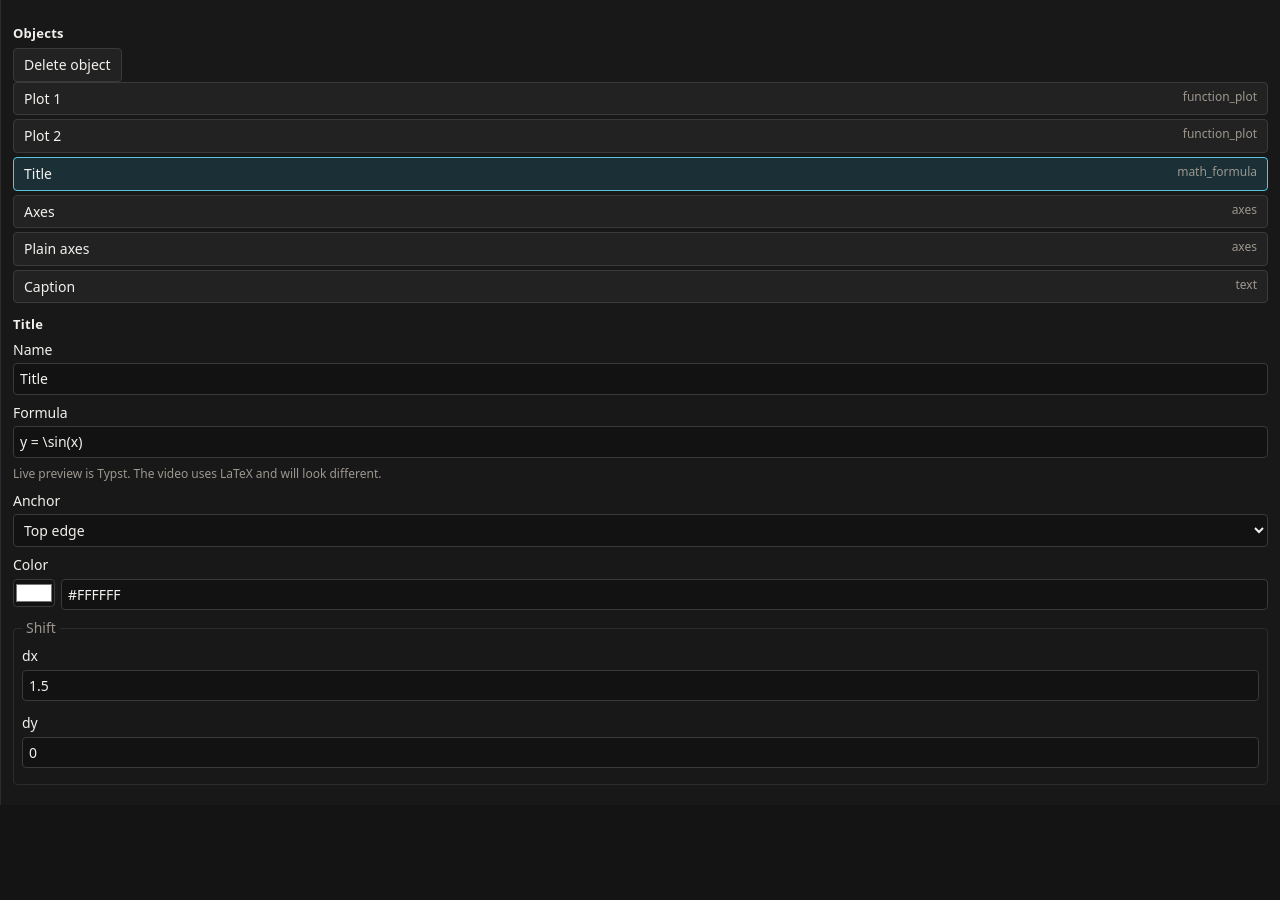
Test: Inspector fields › shows the value again for text that is not a decimal and sends no edit
Replace the text in the field labelled "dx" with "1e3": (640, 686) [22,670,1259,701]
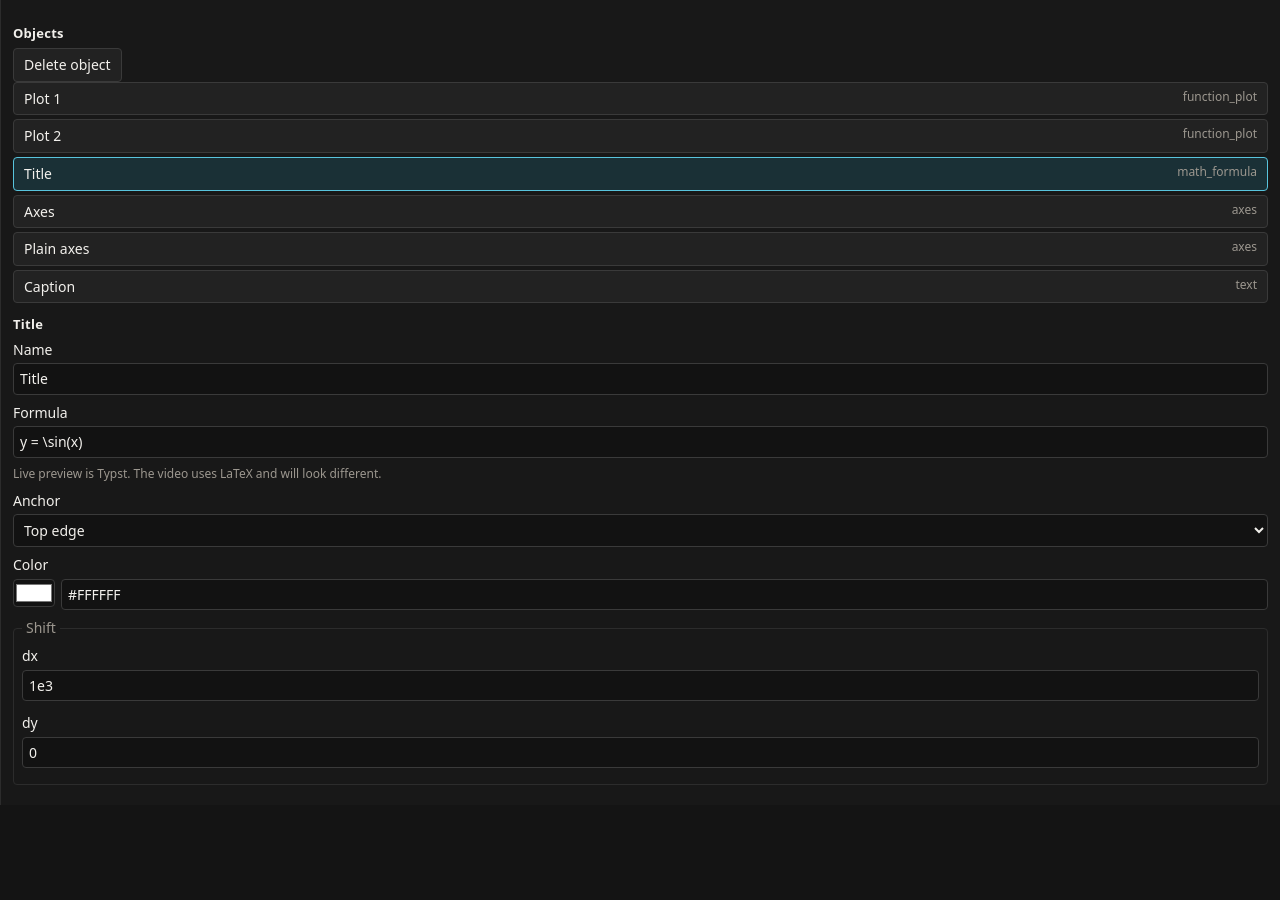
Leave the field labelled "dx", box [22,670,1259,701]
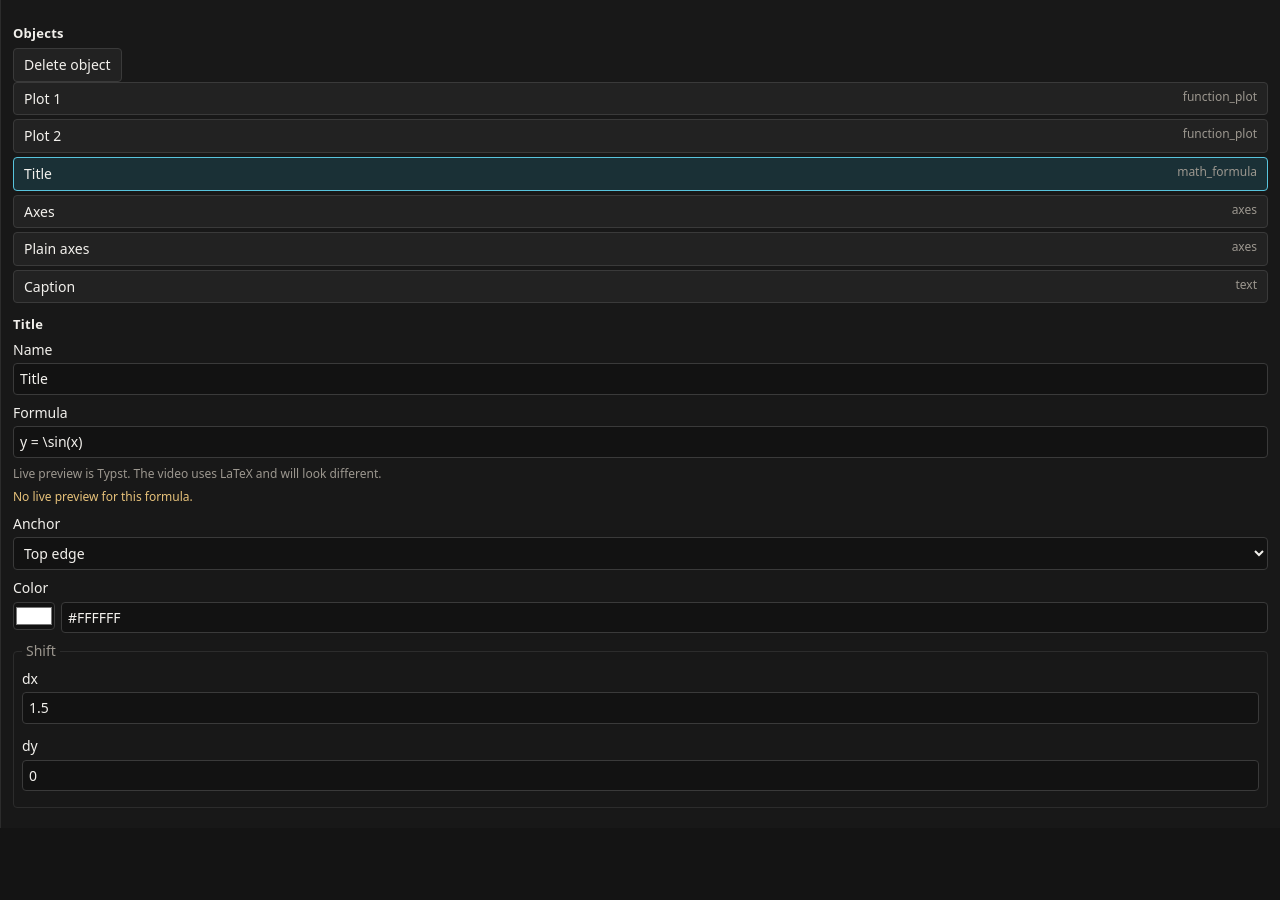
expect the field labelled "dx" holds "1.5": met, box [22,692,1259,724]
